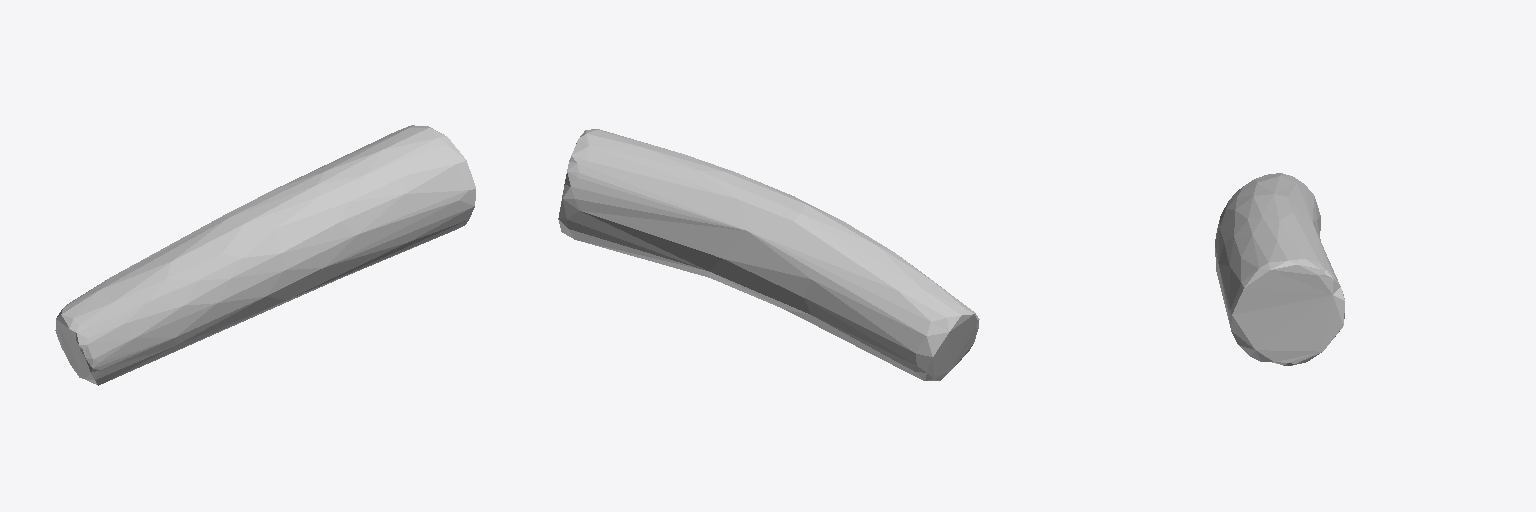
Rendered from superior branch of right superior segmental artery3.obj.
3 views of the same model, side by side, from view 1: azimuth 30°, elevation 25°; view 2: azimuth 150°, elevation 25°; view 3: azimuth 270°, elevation 25° (orthographic).
Parts seen in each view (by area): view 1: grp1; view 2: grp1; view 3: grp1.
Part boxes in pixels (x1,y1,x2,y2): grp1: (55,125,475,385); grp1: (558,129,979,380); grp1: (1215,173,1344,365).
Bounding box in the file's own units: 10.52 × 4.2 × 3.03.